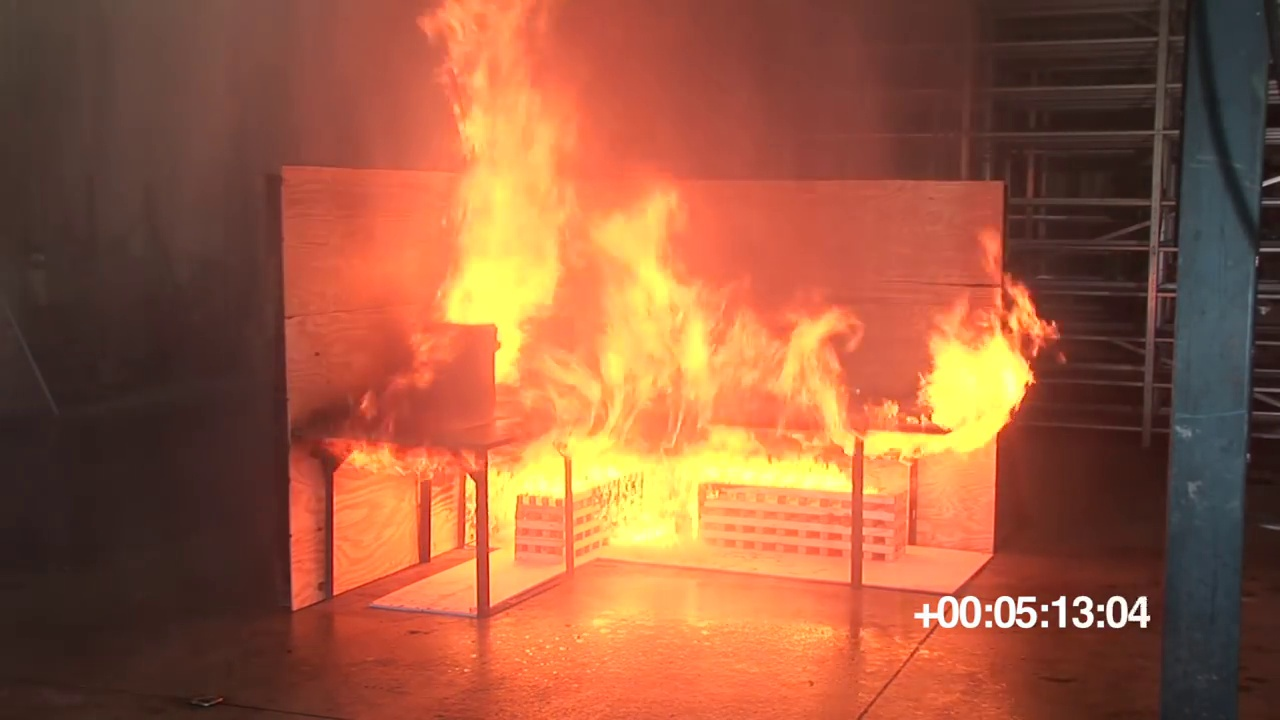fire: (420, 1, 564, 326), (585, 212, 752, 452), (919, 272, 1044, 443), (767, 308, 860, 444), (505, 459, 852, 492), (357, 440, 467, 475)
